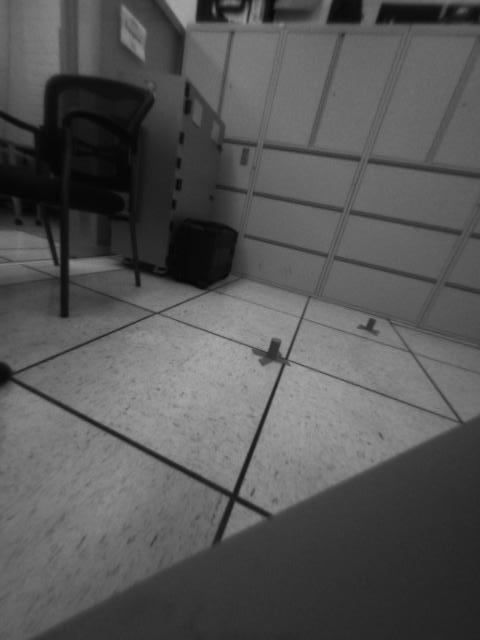X: (252, 337, 292, 370), (356, 316, 385, 339)
